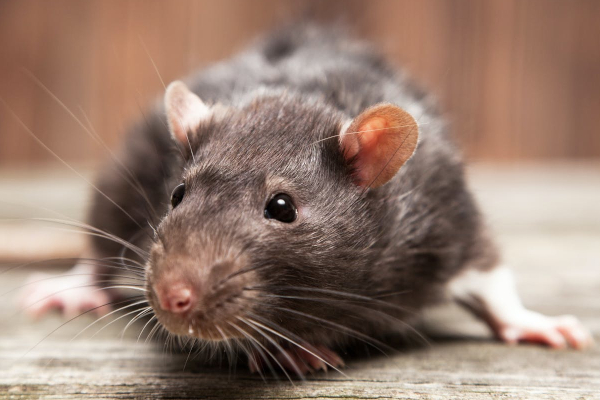rat: (72, 18, 529, 387)
